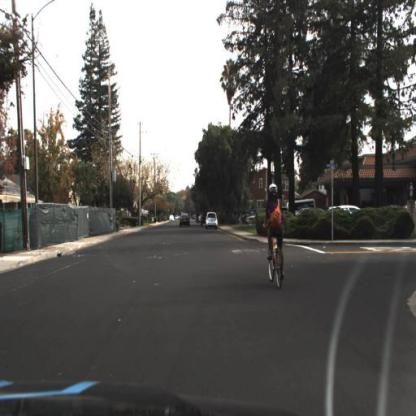biker: (262, 179, 287, 289), (265, 181, 286, 296)
car: (325, 202, 369, 227), (204, 210, 220, 233), (393, 212, 411, 230), (206, 212, 220, 232), (180, 213, 192, 229)
